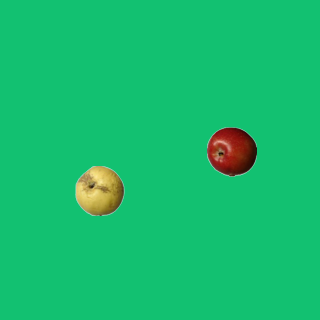Apple Braeburn: (206, 126, 256, 176)
Apple Golden 1: (74, 165, 124, 215)
